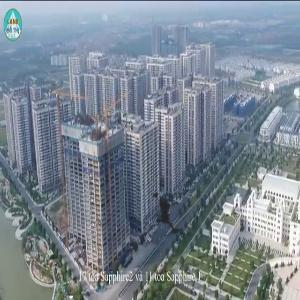drone: (125, 169, 210, 254)
